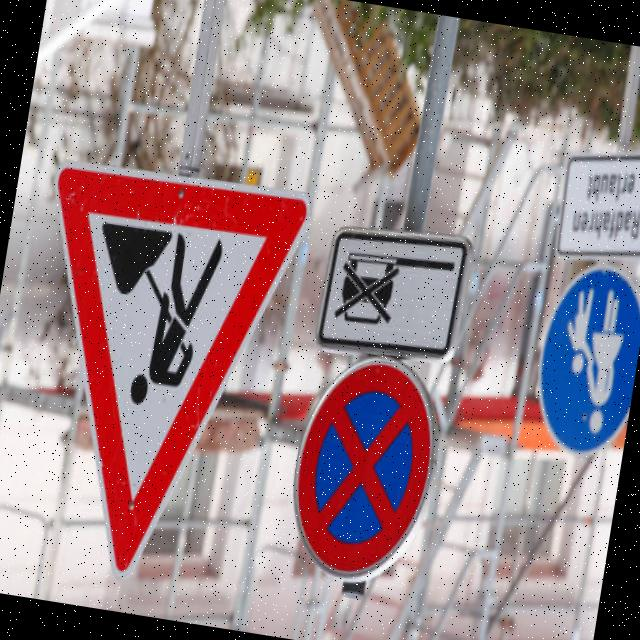road_work: (0, 149, 309, 608)
